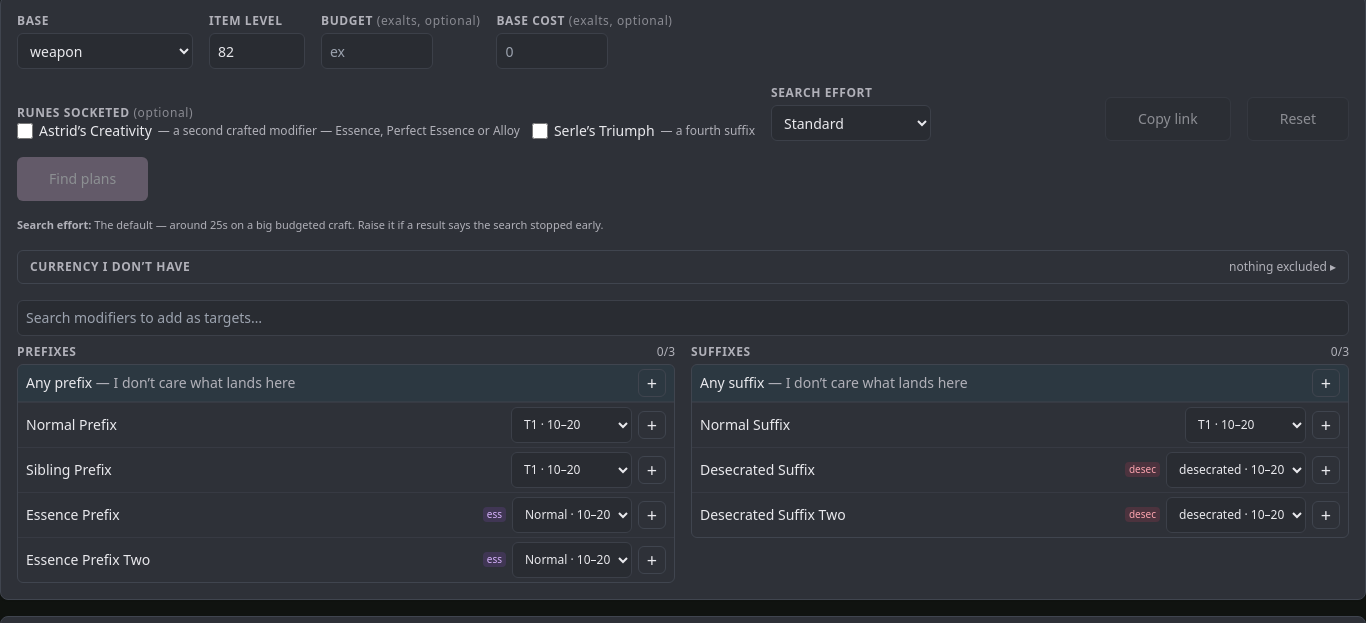
Scenario: EngineLab — the true cost of a craft from scratch › says when the ceiling is the plan without Desecration
Expected: the field with placeholder "Search modifiers to add as targets…" is shown, left=17, top=300, right=1349, bottom=336
Click the button "+" in the row of "Normal Prefix" at (652, 425), box left=638, top=411, right=666, bottom=439
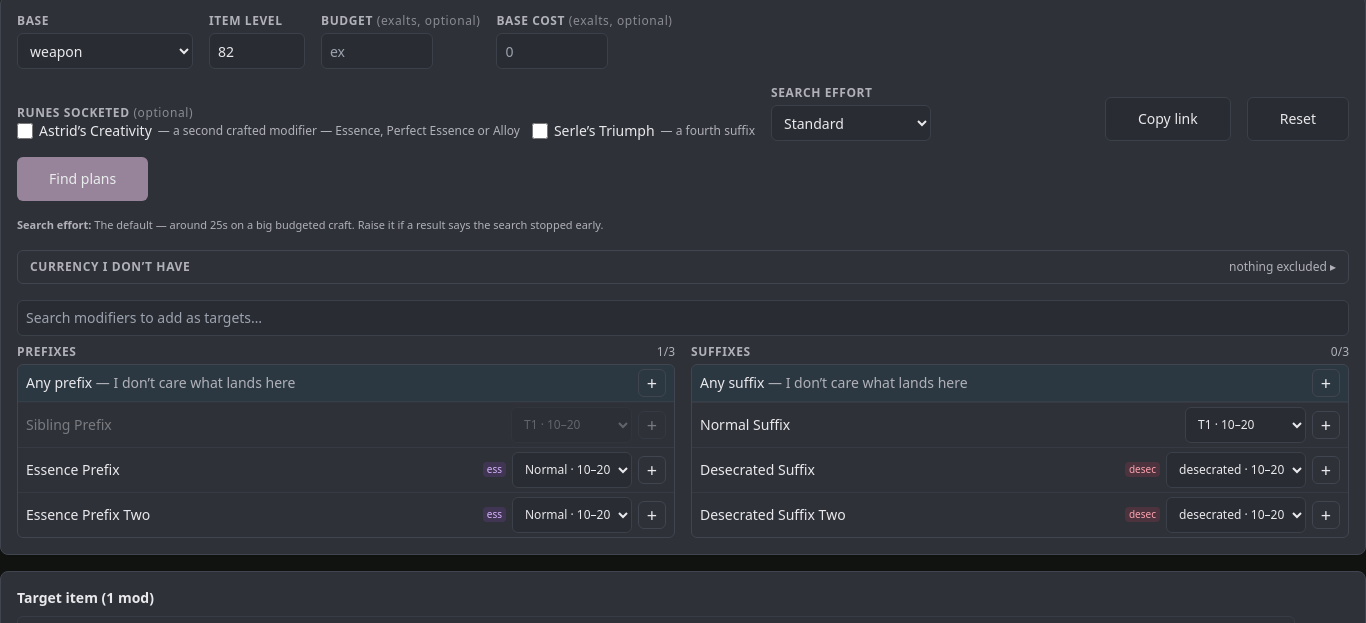
Click the button "Find plans" at (83, 179), box left=17, top=157, right=148, bottom=201
(page scrolled)
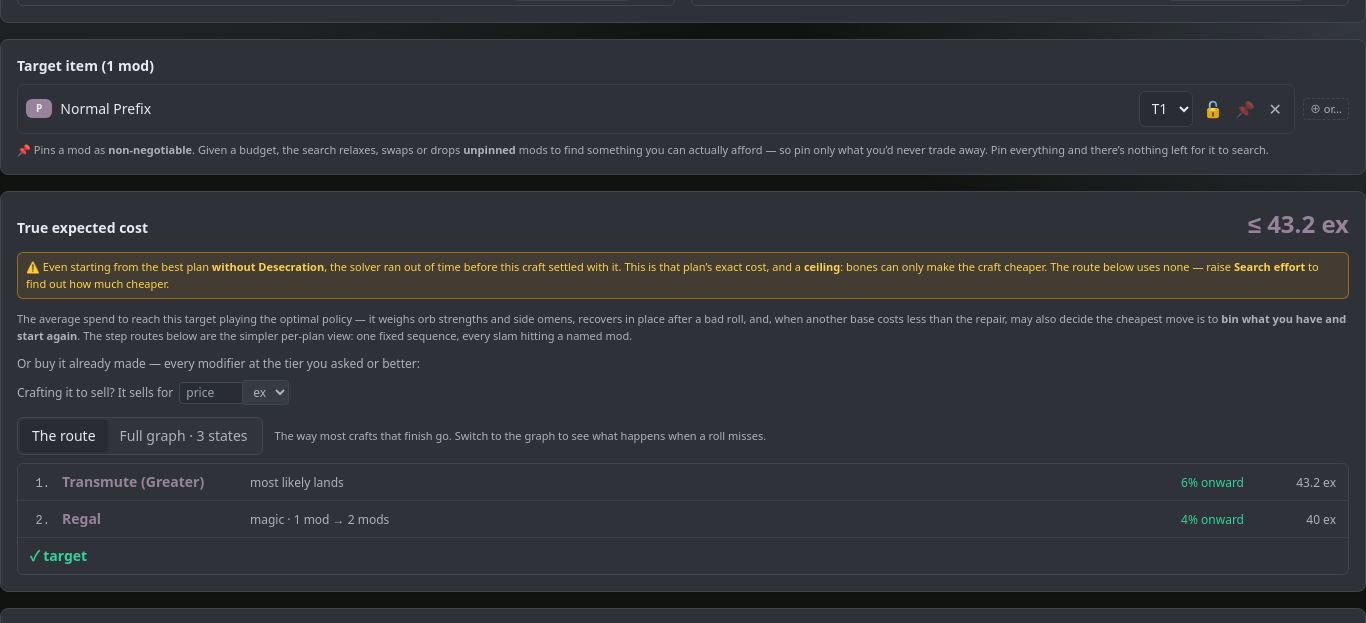
Now the text "≤ 43.2 ex" is shown, box left=1248, top=208, right=1349, bottom=240
